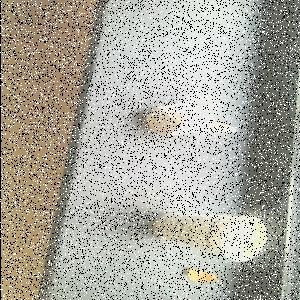Cup: (153, 214, 268, 264), (145, 97, 240, 137)
Trash: (187, 268, 218, 283)
